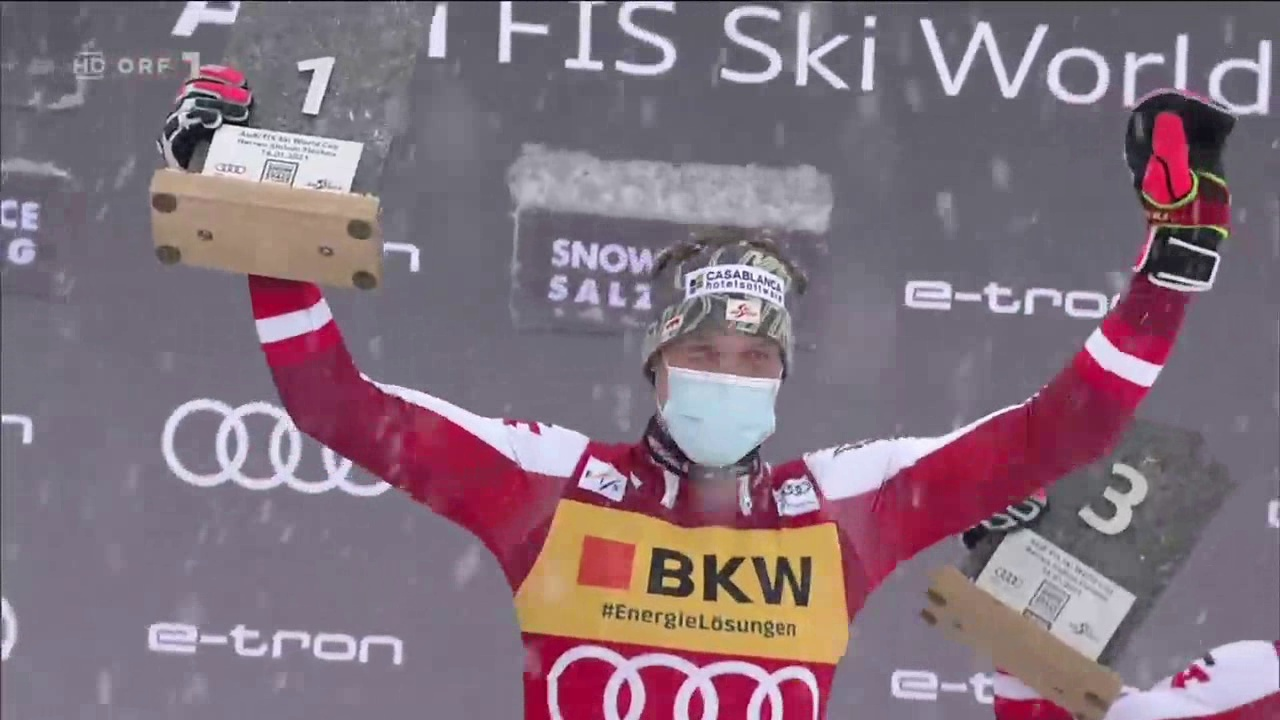audi: (153, 389, 396, 518), (507, 639, 857, 717)
etron: (154, 623, 387, 668), (911, 279, 1128, 326), (886, 664, 996, 711)
